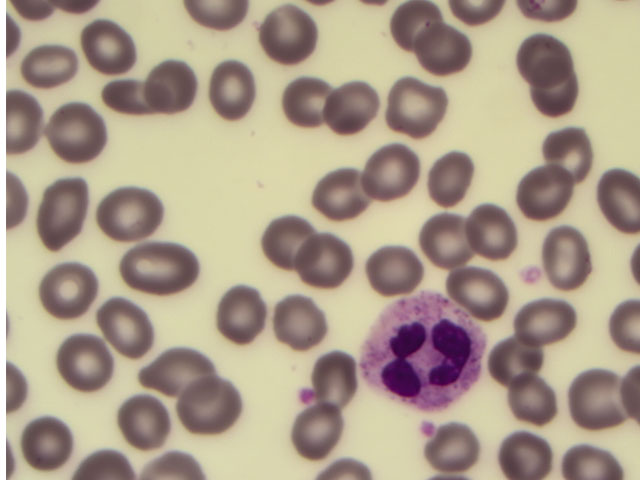Platelets: (514, 264, 545, 287), (292, 386, 318, 403), (417, 417, 436, 436)
RBC: (20, 42, 80, 95), (77, 21, 137, 74), (96, 70, 156, 123), (128, 52, 188, 105), (197, 63, 257, 116), (47, 106, 107, 159), (33, 176, 93, 229), (103, 185, 163, 238), (134, 241, 194, 294), (38, 260, 98, 313), (93, 299, 153, 352), (53, 335, 113, 388), (144, 344, 204, 397), (174, 369, 234, 422), (123, 395, 183, 448), (7, 415, 67, 468), (287, 412, 347, 465), (313, 353, 373, 406), (270, 290, 330, 343), (210, 286, 270, 339), (299, 235, 359, 288), (262, 211, 322, 264), (315, 167, 375, 220), (361, 144, 421, 197), (330, 77, 390, 130), (285, 77, 345, 130), (256, 4, 316, 57), (390, 78, 450, 131), (415, 145, 475, 198), (422, 28, 482, 81), (517, 23, 577, 76), (533, 70, 593, 123), (539, 126, 599, 179), (525, 161, 585, 214), (469, 204, 529, 257), (420, 215, 480, 268), (365, 240, 425, 293), (450, 261, 510, 314), (525, 297, 585, 350), (497, 324, 557, 377), (510, 382, 570, 435), (495, 427, 555, 480), (572, 373, 632, 426), (546, 231, 606, 284), (396, 1, 456, 53), (563, 444, 624, 480)
WBC: (366, 292, 488, 407)
